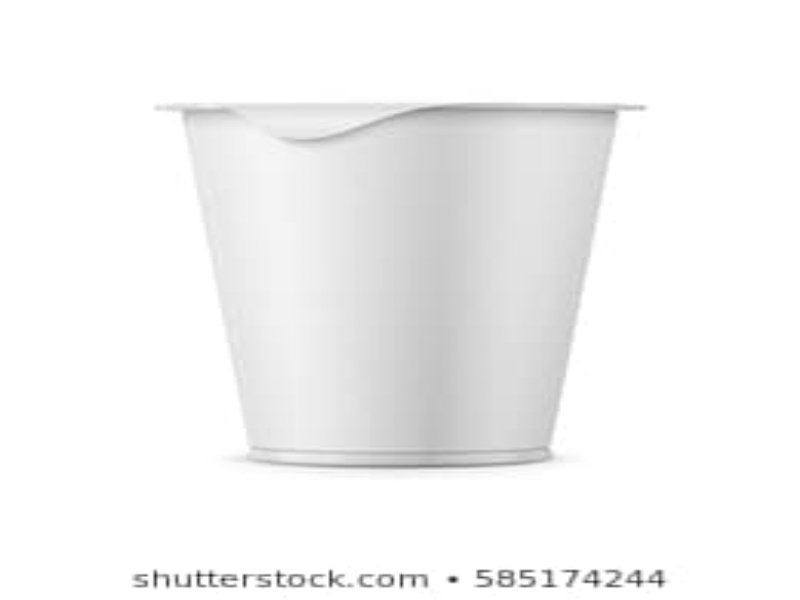yogurt-cup: (153, 93, 650, 473)
